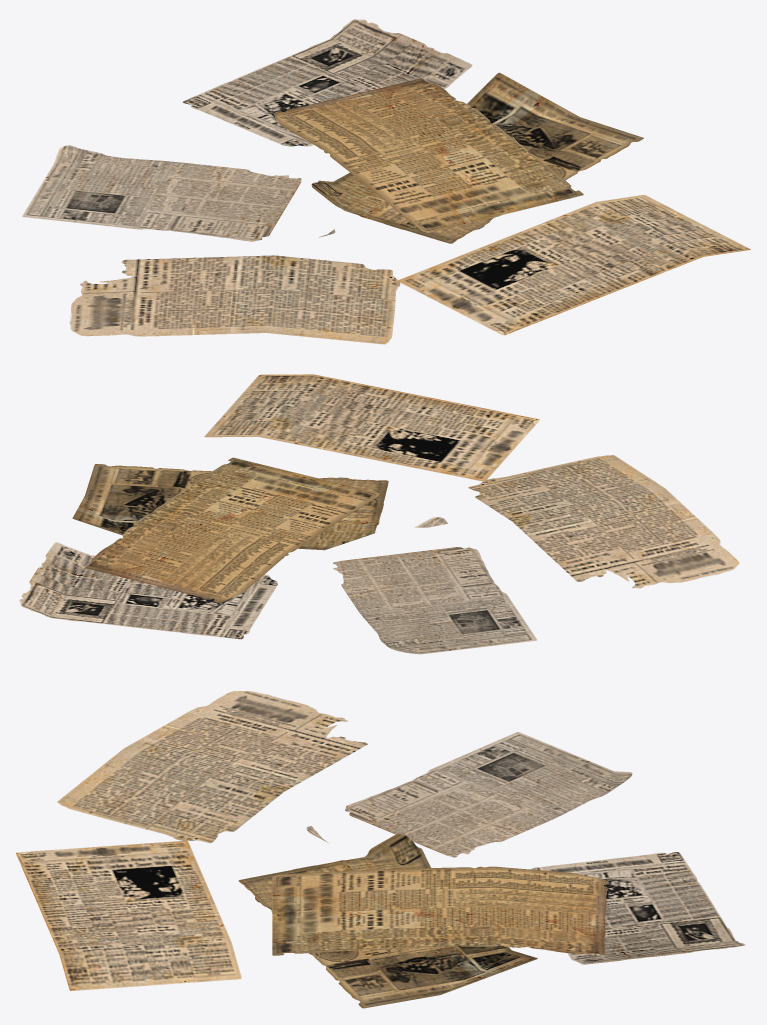
File: Prop_scrapdecalA.fbx
3 views of the same model, one above another, from view 1: azimuth 30°, elevation 25°; view 2: azimuth 150°, elevation 25°; view 3: azimuth 270°, elevation 25° (orthographic). The views are drawn at different scales.
Parts seen in each view (by area): view 1: Mesh; view 2: Mesh; view 3: Mesh.
Boxes of the visible parts, x1=… form: Mesh: x1=22, y1=19, x2=750, y2=344; Mesh: x1=19, y1=374, x2=739, y2=654; Mesh: x1=16, y1=691, x2=745, y2=1008.
Bounding box in the file's own units: 59.63 × 1.97 × 57.01.
